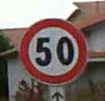limite 50: (18, 17, 88, 84)
